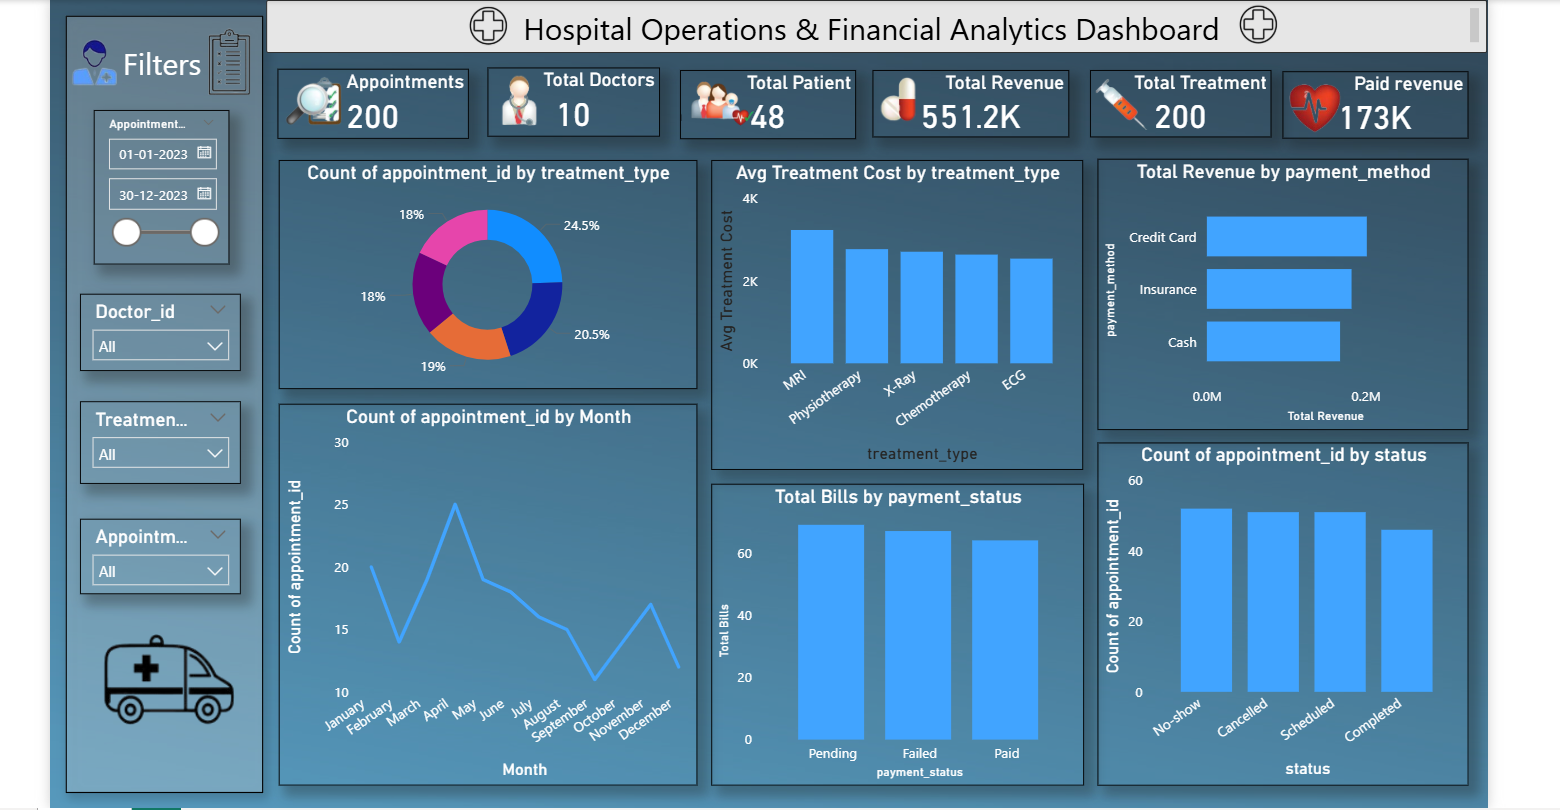

This screenshot's page, from the dashboard's own definition file:
{"tool":"powerbi","page":{"name":"Page 1","canvas":[1280,720],"ordinal":0},"visuals":[{"type":"card","title":"Appointments","fields":{"Values":["appointments.Total Appointments"]},"box":[203.1,60.9,170.3,62.5],"z":0},{"type":"card","title":"Total Patient","fields":{"Values":["appointments.Total Patients"]},"box":[561,62.7,156.8,61.5],"z":1000},{"type":"card","title":"Total Treatment","fields":{"Values":["treatments.Total Treatments"]},"box":[926.5,62.7,161.7,60.3],"z":2000},{"type":"card","title":"Total Doctors","fields":{"Values":["appointments.Total Doctors"]},"box":[389.7,60.3,153.2,61.5],"z":3000},{"type":"shape","box":[0,0,203.9,720.2],"z":4000},{"type":"card","title":"Total Revenue","fields":{"Values":["billing.Total Revenue"]},"box":[732.3,62.7,174.9,60.3],"z":5000},{"type":"card","title":"Paid revenue","fields":{"Values":["billing.Paid Revenue"]},"box":[1097.9,63.9,165.3,60.3],"z":6000},{"type":"textbox","box":[193,0,1087,47.1],"z":7000},{"type":"donutChart","fields":{"Category":["treatments.treatment_type"],"Y":["CountNonNull(appointments.appointment_id)"]},"box":[203.8,142.5,372.5,203.8],"z":8000},{"type":"clusteredBarChart","fields":{"Y":["billing.Total Revenue"],"Category":["billing.payment_method"]},"box":[932.5,141.2,330,241.2],"z":9000},{"type":"lineChart","fields":{"Y":["CountNonNull(appointments.appointment_id)"],"Category":["treatments.treatment_date.Variation.Date Hierarchy.Month"]},"box":[203.8,360,372.5,340],"z":10000},{"type":"clusteredColumnChart","fields":{"Y":["billing.Avg Treatment Cost"],"Category":["treatments.treatment_type"]},"box":[588.8,142.5,331.2,276.2],"z":11000},{"type":"columnChart","fields":{"Category":["billing.payment_status"],"Y":["billing.Total Bills"]},"box":[588.7,430.7,331.8,269],"z":12000},{"type":"textbox","box":[60.3,33.8,98.9,45.8],"z":13000},{"type":"slicer","fields":{"Values":["appointments.appointment_date"]},"box":[38.6,97.7,120.6,137.5],"z":14000},{"type":"slicer","fields":{"Values":["appointments.doctor_id"]},"box":[26.5,261.8,143.6,68.8],"z":14001},{"type":"slicer","fields":{"Values":["treatments.treatment_type"]},"box":[26.5,357.1,143.6,73.6],"z":14002},{"type":"slicer","fields":{"Values":["appointments.status"]},"box":[26.5,462.1,143.6,67.6],"z":14003},{"type":"image","box":[1025.5,0,101.3,47.1],"z":14004},{"type":"image","box":[339,1.2,101.3,47.1],"z":14005},{"type":"image","box":[21.7,529.6,161.7,170.1],"z":14006},{"type":"image","box":[8.4,10.9,62.7,79.6],"z":14007},{"type":"image","box":[372.8,59.1,90.5,62.7],"z":14008},{"type":"image","box":[202.7,62.7,70,61.5],"z":14009},{"type":"image","box":[562.2,31.4,68.8,119.4],"z":14010},{"type":"image","box":[710.6,66.4,94.1,48.3],"z":14011},{"type":"image","box":[907.2,61.5,100.1,60.3],"z":14012},{"type":"image","box":[1050.8,70,152,54.3],"z":14013},{"type":"image","box":[107.4,16.9,102.5,77.2],"z":14014},{"type":"columnChart","fields":{"Y":["CountNonNull(treatments.appointment_id)"],"Category":["appointments.status"]},"box":[932.6,394.5,330.6,305.2],"z":14015}]}

Visuals, with their boxes in screenshot pixels (x1, y1, x2, y2):
"Appointments" card: BBox(270, 66, 465, 138)
"Total Patient" card: BBox(681, 68, 861, 139)
"Total Treatment" card: BBox(1100, 68, 1286, 137)
"Total Doctors" card: BBox(484, 65, 660, 136)
shape: BBox(37, 0, 271, 809)
"Total Revenue" card: BBox(877, 68, 1078, 137)
"Paid revenue" card: BBox(1297, 69, 1487, 139)
textbox: BBox(258, 0, 1506, 50)
donutChart - treatments.treatment_type x CountNonNull(appointments.appointment_id): BBox(271, 160, 698, 393)
clusteredBarChart - billing.Total Revenue x billing.payment_method: BBox(1107, 158, 1486, 435)
lineChart - CountNonNull(appointments.appointment_id) x treatments.treatment_date.Variation.Date Hierarchy.Month: BBox(271, 409, 698, 800)
clusteredColumnChart - billing.Avg Treatment Cost x treatments.treatment_type: BBox(713, 160, 1093, 477)
columnChart - billing.payment_status x billing.Total Bills: BBox(712, 490, 1093, 799)
textbox: BBox(106, 35, 219, 87)
slicer - appointments.appointment_date: BBox(81, 108, 219, 266)
slicer - appointments.doctor_id: BBox(67, 296, 232, 375)
slicer - treatments.treatment_type: BBox(67, 406, 232, 490)
slicer - appointments.status: BBox(67, 526, 232, 604)
image: BBox(1214, 0, 1330, 50)
image: BBox(426, 0, 542, 51)
image: BBox(61, 604, 247, 799)
image: BBox(46, 8, 118, 100)
image: BBox(465, 64, 568, 136)
image: BBox(269, 68, 350, 139)
image: BBox(682, 32, 761, 169)
image: BBox(852, 72, 960, 128)
image: BBox(1078, 67, 1193, 136)
image: BBox(1243, 76, 1417, 139)
image: BBox(160, 15, 278, 104)
columnChart - CountNonNull(treatments.appointment_id) x appointments.status: BBox(1107, 449, 1487, 799)
